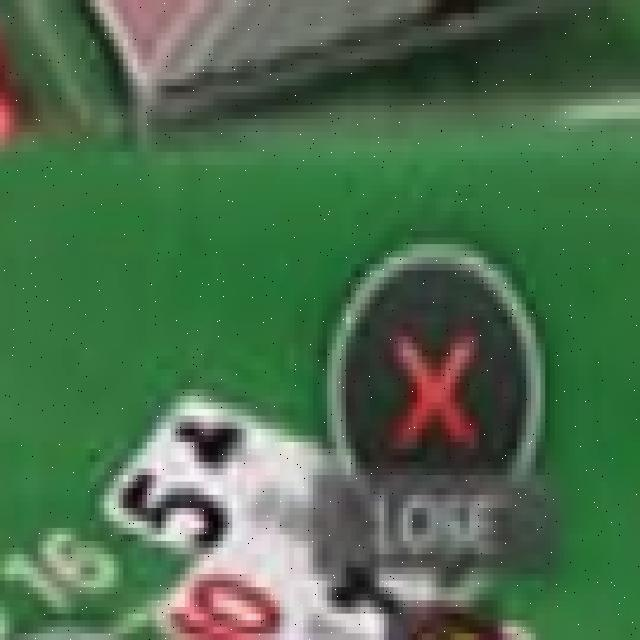Card-10: (150, 555, 388, 640)
Card-5: (101, 384, 491, 638)
